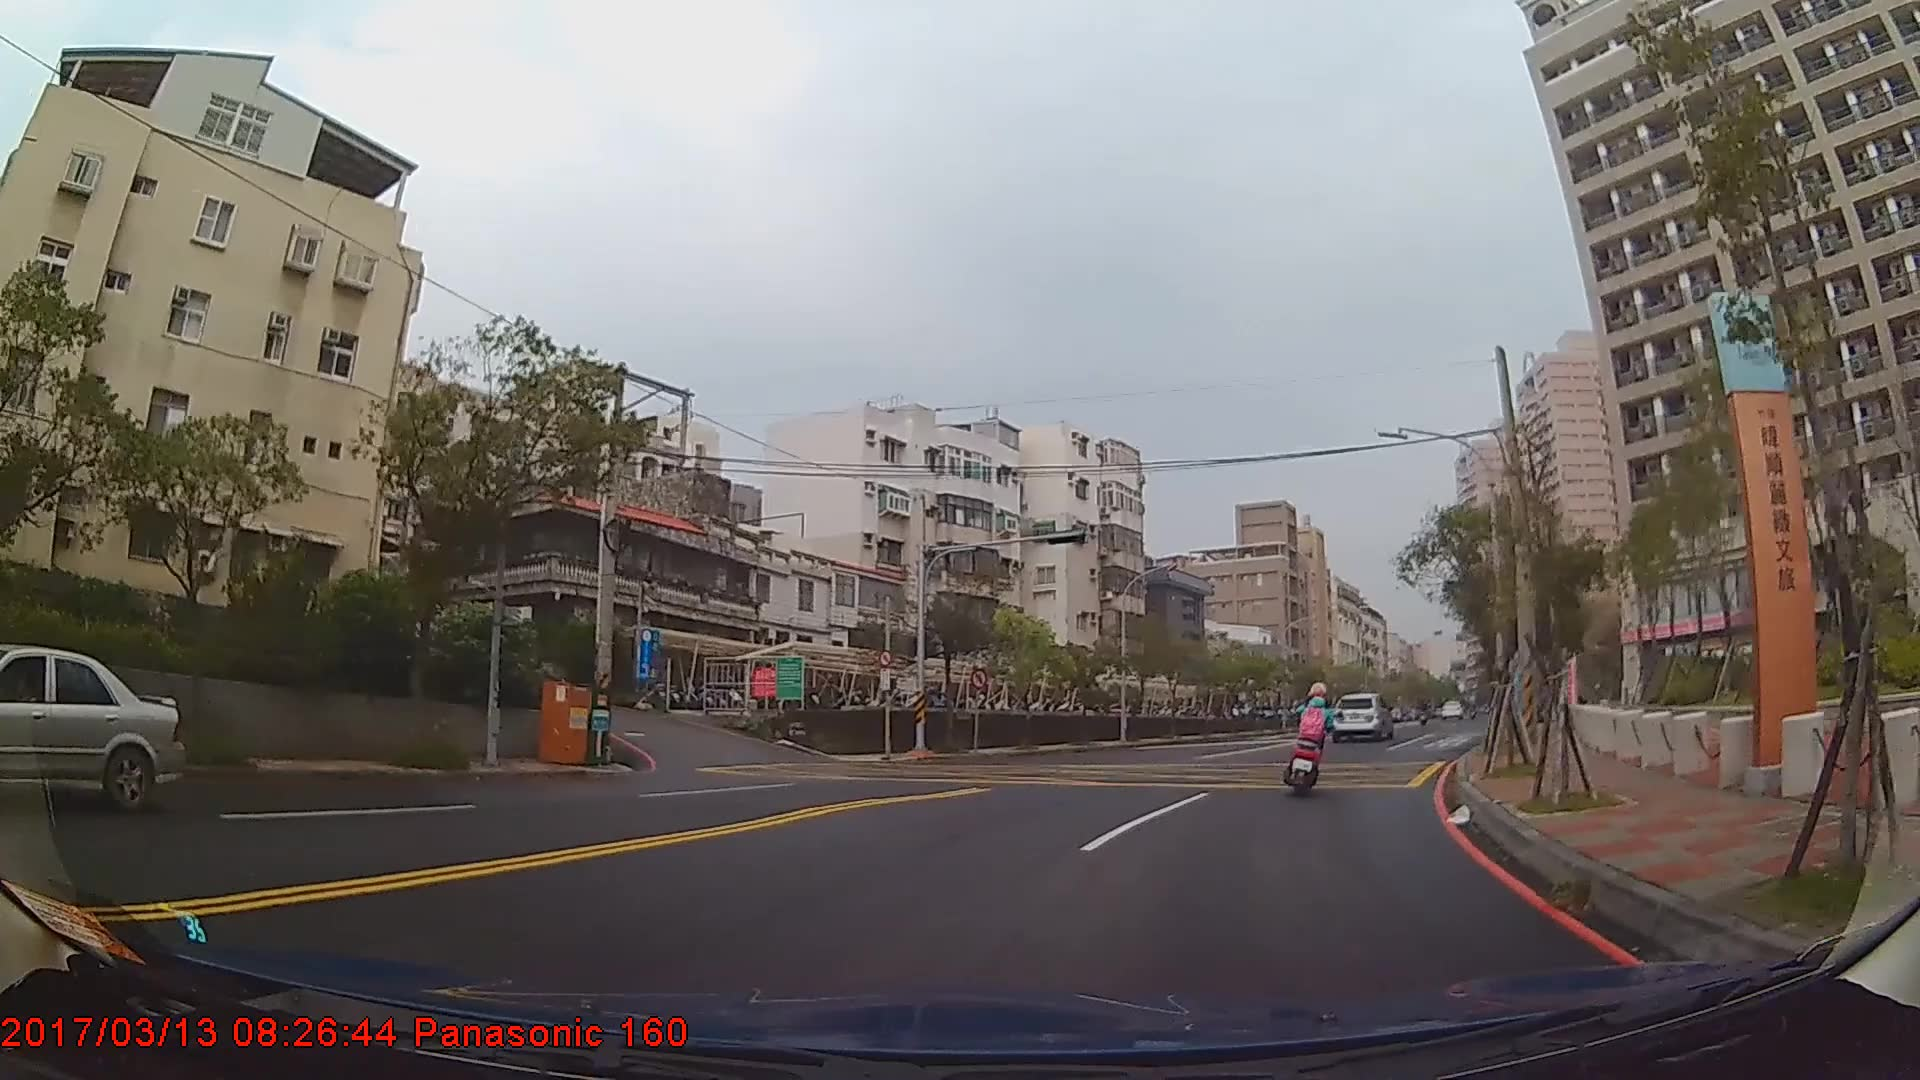rider: (1285, 678, 1338, 790)
vehicle: (0, 640, 184, 814), (1330, 691, 1396, 739)
